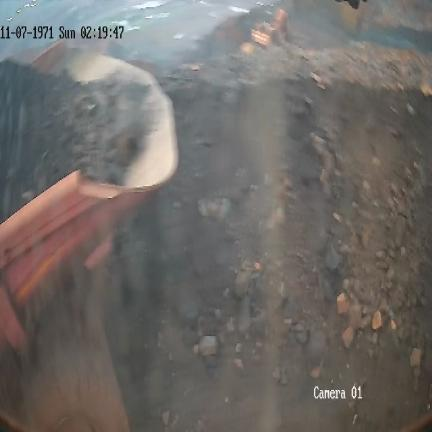pile: (102, 55, 432, 392), (0, 64, 155, 222)
